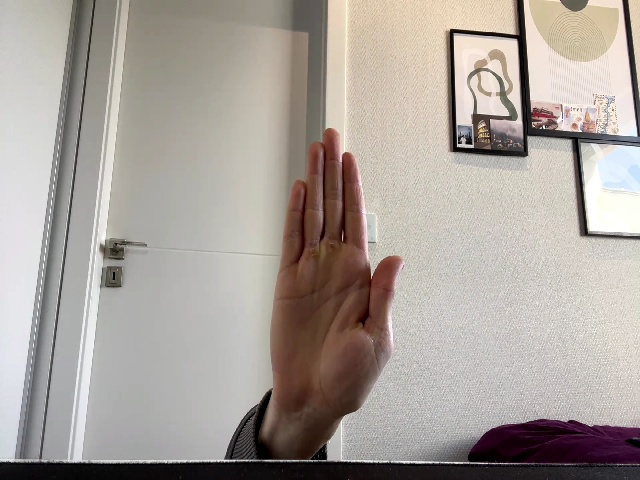B: (270, 127, 405, 428)
